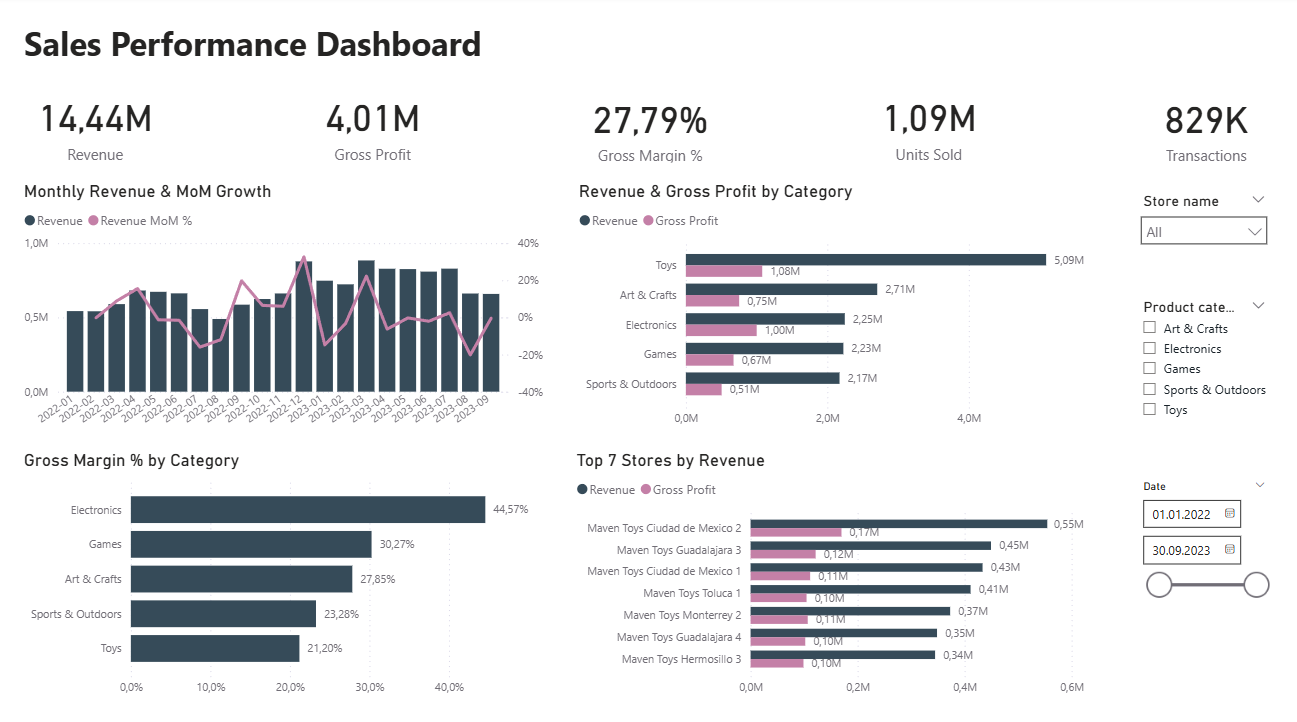

What the dashboard file says about the page in this screenshot:
{"tool":"powerbi","page":{"name":"Sales Performance","canvas":[1280,720],"ordinal":0},"visuals":[{"type":"lineClusteredColumnComboChart","title":"Monthly Revenue & MoM Growth","fields":{"Category":["DimDate.Year-Month"],"Y":["Mesures.Revenue"],"Y2":["Mesures.Revenue MoM %"]},"box":[20,181.2,520,250],"z":0},{"type":"clusteredBarChart","title":"Revenue & Gross Profit by Category","fields":{"Category":["DimProduct.product_category"],"Y":["Mesures.Revenue","Mesures.Gross Profit"]},"box":[565,181.2,520,250],"z":1000},{"type":"clusteredBarChart","title":"Gross Margin % by Category","fields":{"Category":["DimProduct.product_category"],"Y":["Mesures.Gross Margin %"]},"box":[20,445,520,250],"z":2000},{"type":"clusteredBarChart","title":"Top 7 Stores by Revenue","fields":{"Category":["DimStore.store_name"],"Y":["Mesures.Revenue","Mesures.Gross Profit"]},"box":[562.5,445,520,250],"z":3000},{"type":"card","fields":{"Values":["Mesures.Revenue"]},"box":[20,87.3,150,80],"z":4000},{"type":"card","fields":{"Values":["Mesures.Gross Profit"]},"box":[292.5,87.3,150,80],"z":5000},{"type":"card","fields":{"Values":["Mesures.Gross Margin %"]},"box":[565,88.7,150,80],"z":6000},{"type":"card","fields":{"Values":["Mesures.Units Sold"]},"box":[837.5,87.3,150,80],"z":7000},{"type":"card","fields":{"Values":["Mesures.Transactions"]},"box":[1110,88.7,150,80],"z":8000},{"type":"slicer","fields":{"Values":["DimProduct.product_category"]},"box":[1110,291.9,145,138.8],"z":9000},{"type":"slicer","fields":{"Values":["DimStore.store_name"]},"box":[1110.4,187.7,144.8,65],"z":10000},{"type":"slicer","fields":{"Values":["DimDate.Date"]},"box":[1110,470,145,138.8],"z":11000},{"type":"textbox","box":[20,20,487.1,54.3],"z":12000}]}

Visuals, with their boxes in screenshot pixels (x1, y1, x2, y2), scaled from the page's 1280x720 canvas onto the 1297x722 screenshot:
"Monthly Revenue & MoM Growth" lineClusteredColumnComboChart: 20 182 547 432
"Revenue & Gross Profit by Category" clusteredBarChart: 573 182 1099 432
"Gross Margin % by Category" clusteredBarChart: 20 446 547 697
"Top 7 Stores by Revenue" clusteredBarChart: 570 446 1097 697
card - Mesures.Revenue: 20 88 172 168
card - Mesures.Gross Profit: 296 88 448 168
card - Mesures.Gross Margin %: 573 89 724 169
card - Mesures.Units Sold: 849 88 1001 168
card - Mesures.Transactions: 1125 89 1277 169
slicer - DimProduct.product_category: 1125 293 1272 432
slicer - DimStore.store_name: 1125 188 1272 253
slicer - DimDate.Date: 1125 471 1272 610
textbox: 20 20 514 75
